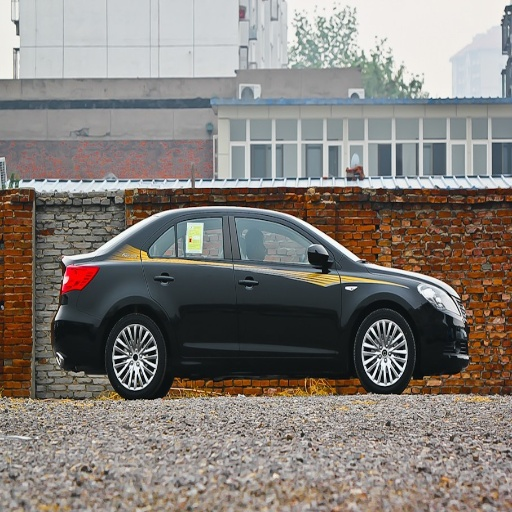back_right_door: (143, 209, 239, 356)
front_right_door: (231, 211, 341, 349)
